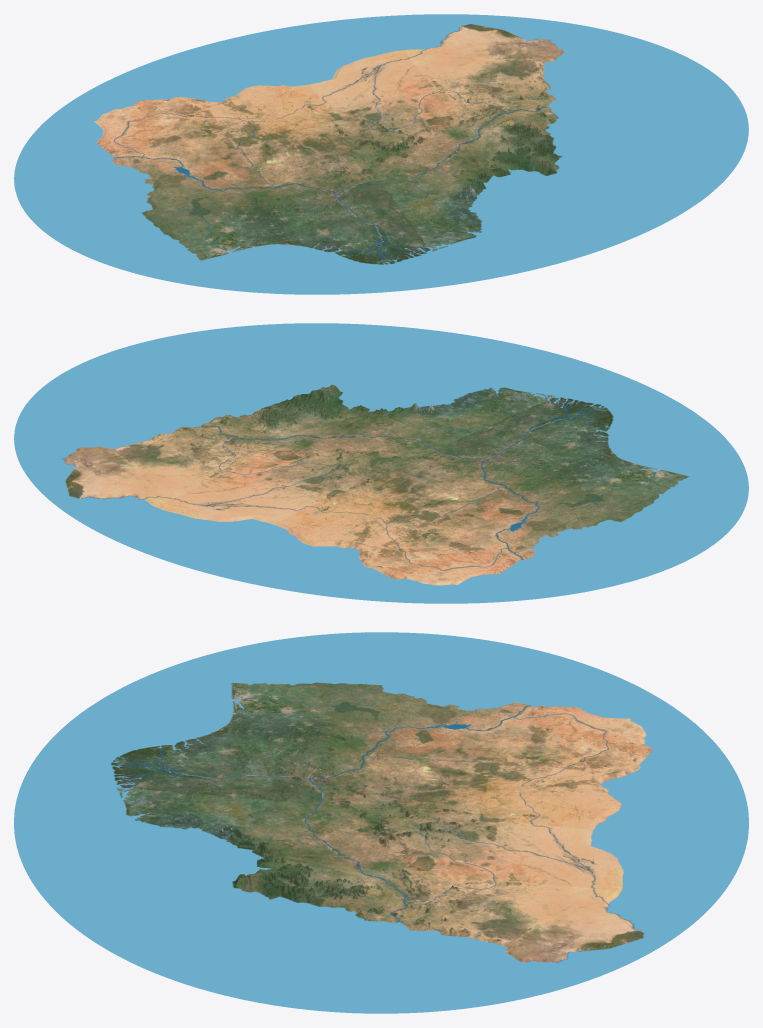
Rendered from NGA-previa-terrain.glb.
The picture shows the model from 3 angles, top to bottom: view 1: azimuth 30°, elevation 25°; view 2: azimuth 150°, elevation 25°; view 3: azimuth 270°, elevation 25°; orthographic projection. The views are drawn at different scales.
Parts seen in each view (by area): view 1: Nigéria; view 2: Nigéria; view 3: Nigéria.
Part boxes in pixels (x1,y1,x2,y2): Nigéria: (14, 14, 748, 294); Nigéria: (14, 323, 748, 603); Nigéria: (14, 632, 748, 1013).
Bounding box in the file's own units: 2.38 × 0.0339 × 1.94.
Materials: 1 (1 with a texture image).
